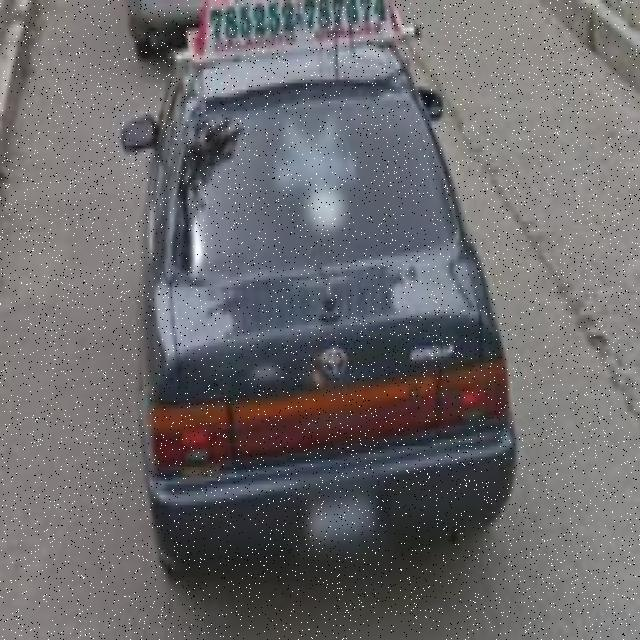cars: (122, 10, 521, 611)
